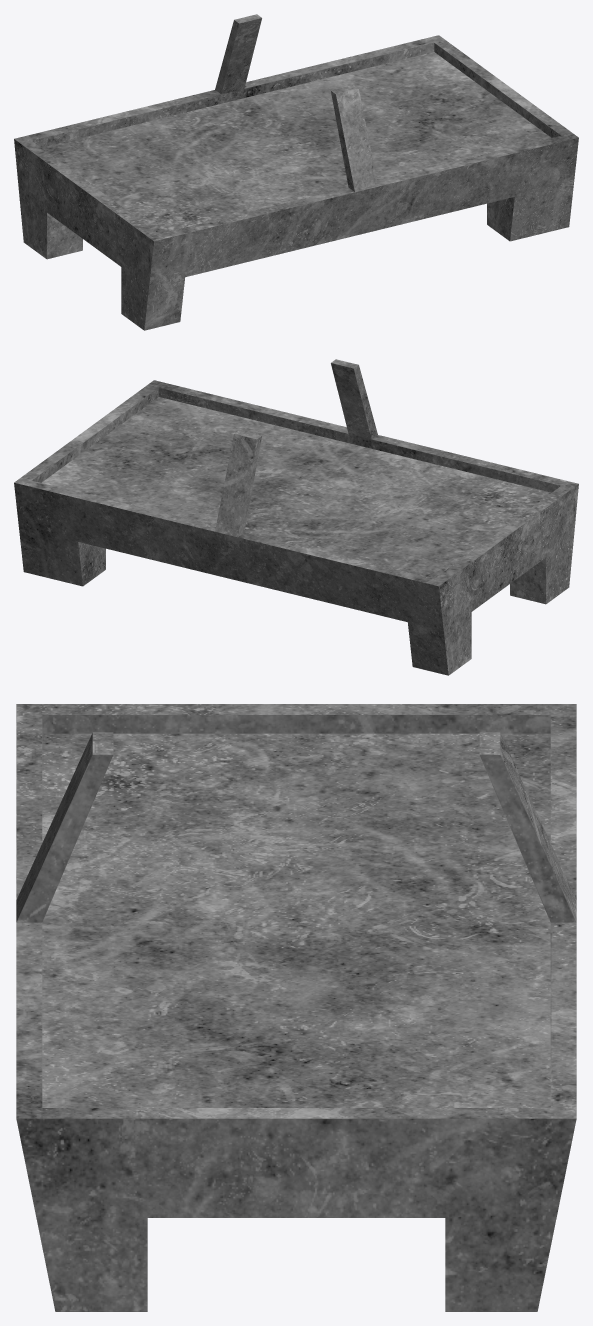
File: ASM - PBR Metallic Roughness.glb
The picture shows the model from 3 angles, top to bottom: view 1: azimuth 30°, elevation 25°; view 2: azimuth 150°, elevation 25°; view 3: azimuth 270°, elevation 25°; orthographic projection. The views are drawn at different scales.
Parts seen in each view (by area): view 1: Cube.001; view 2: Cube.001; view 3: Cube.001.
Boxes of the visible parts, x1,y1,x2,y2 form: Cube.001: [14, 14, 578, 330]; Cube.001: [14, 359, 578, 675]; Cube.001: [16, 704, 576, 1311].
Bounding box in the file's own units: 0.0921 × 0.0374 × 0.0526.
1 material, 1 textured.
